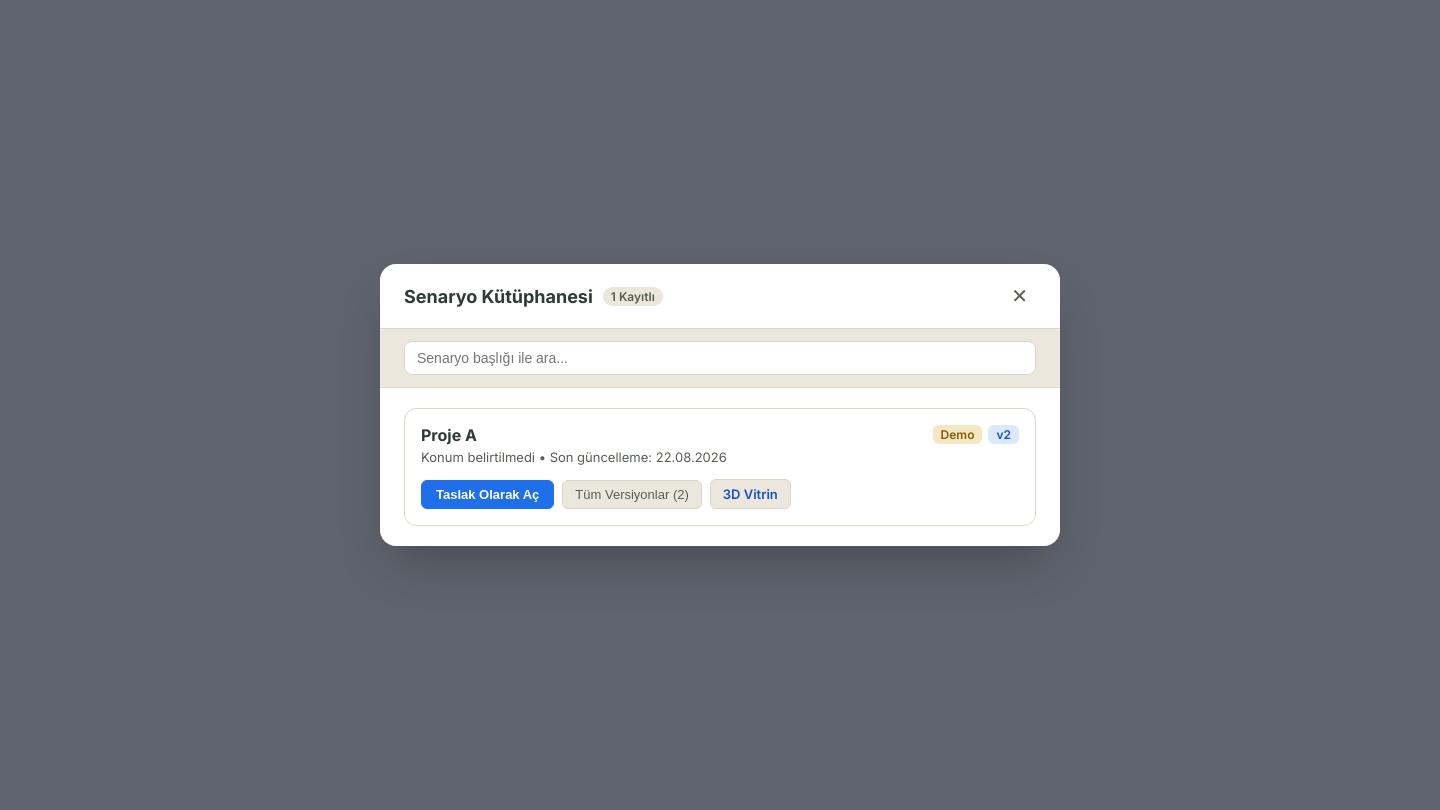
it: StudioScenarioLibrary › genisletilmis versiyon listesinde her versiyon icin "3D Vitrin" linki verir
Expected: the heading "Proje A" is shown, x1=421 y1=425 x2=477 y2=445
Click the button "Tüm Versiyonlar (2)" at x=632, y=494, box x1=562 y1=480 x2=702 y2=508
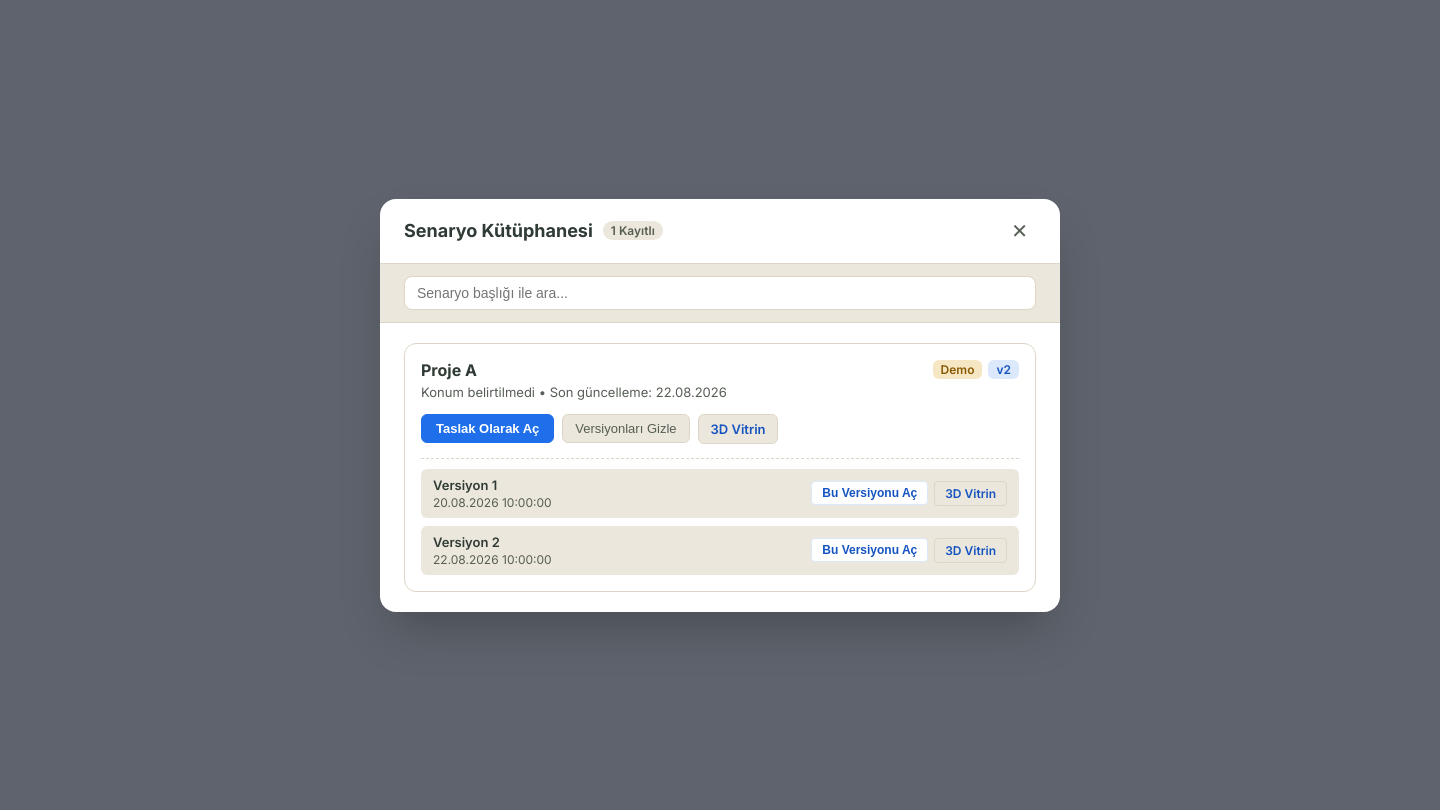
Result: the text "Versiyon 1" is shown at x1=433 y1=476 x2=497 y2=492
